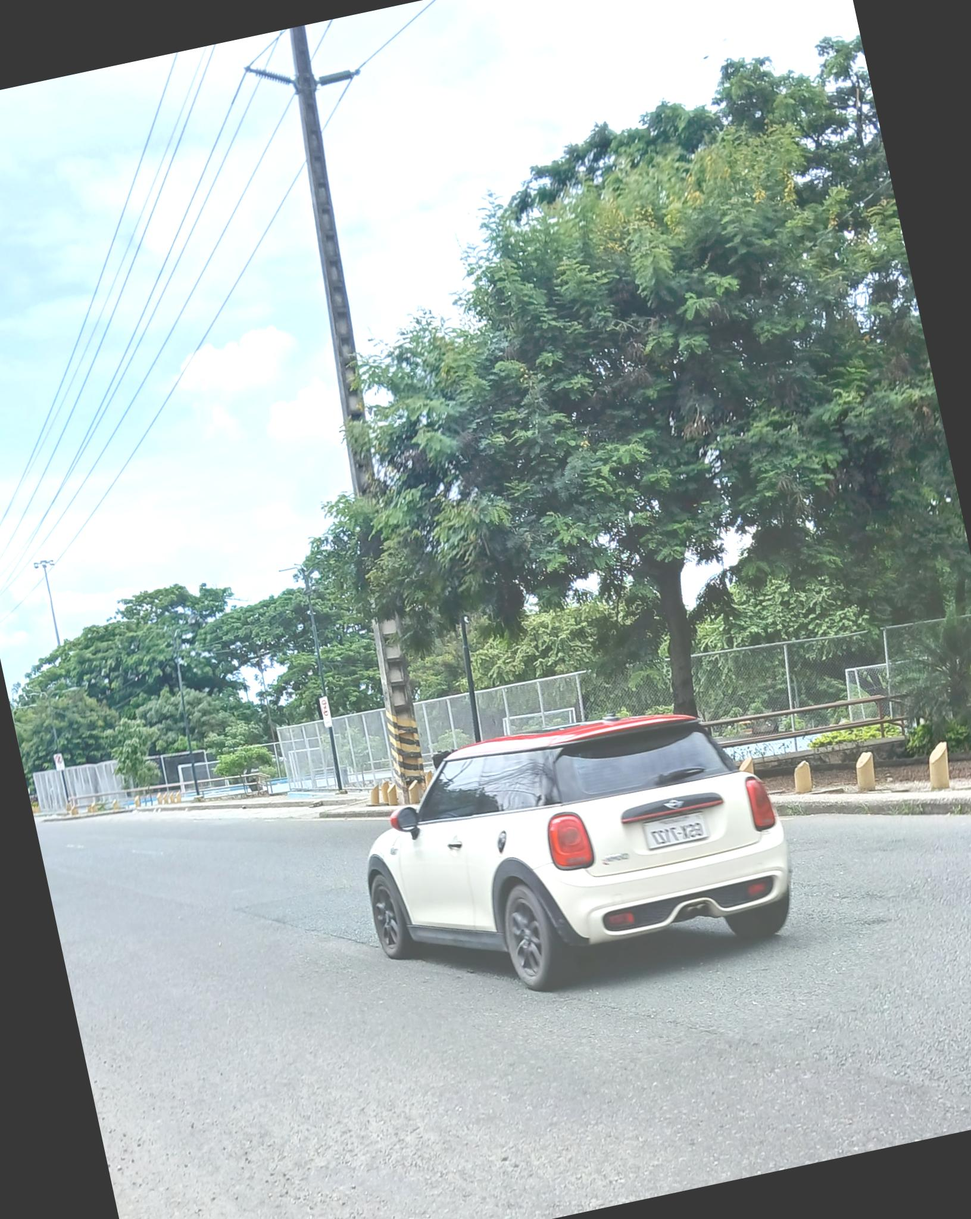license_plate: (641, 812, 709, 852)
